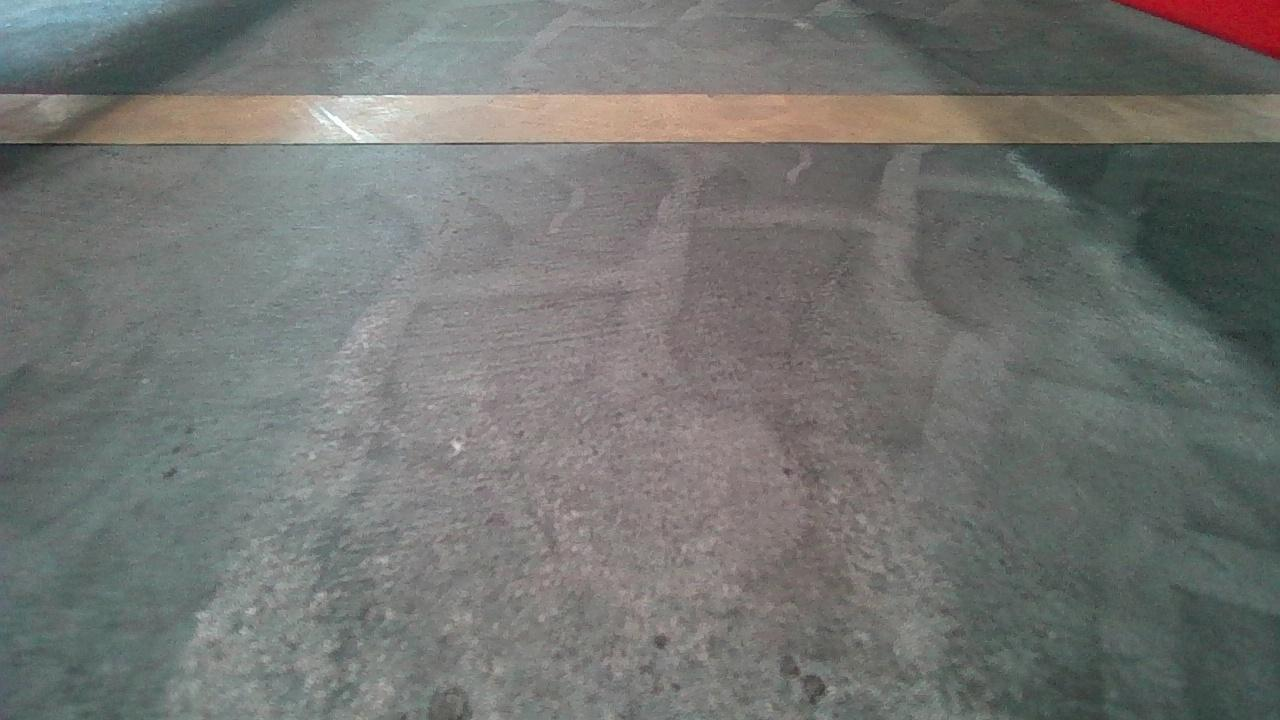yellow_line: (8, 81, 1280, 146)
